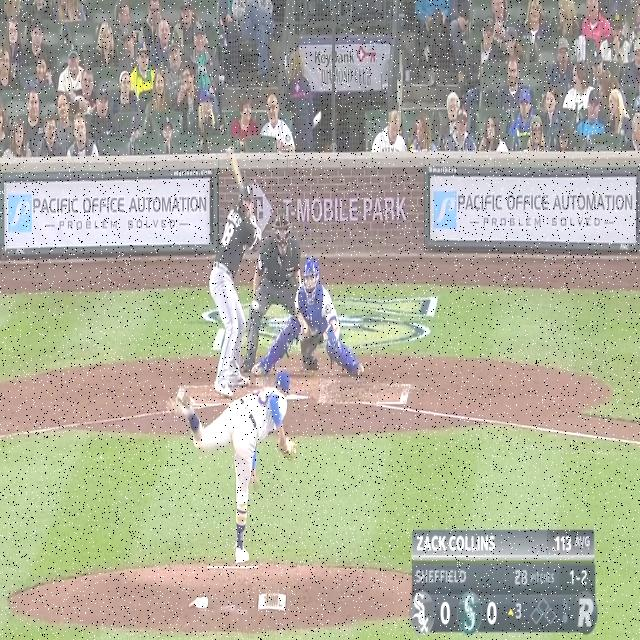baseball: (251, 299, 260, 312)
